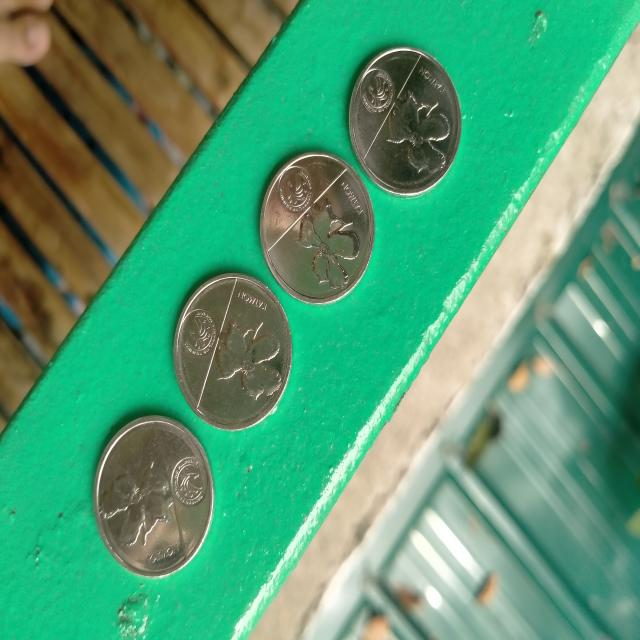25Cent_New_Back: (276, 159, 361, 291), (361, 60, 450, 185), (180, 302, 285, 401)
